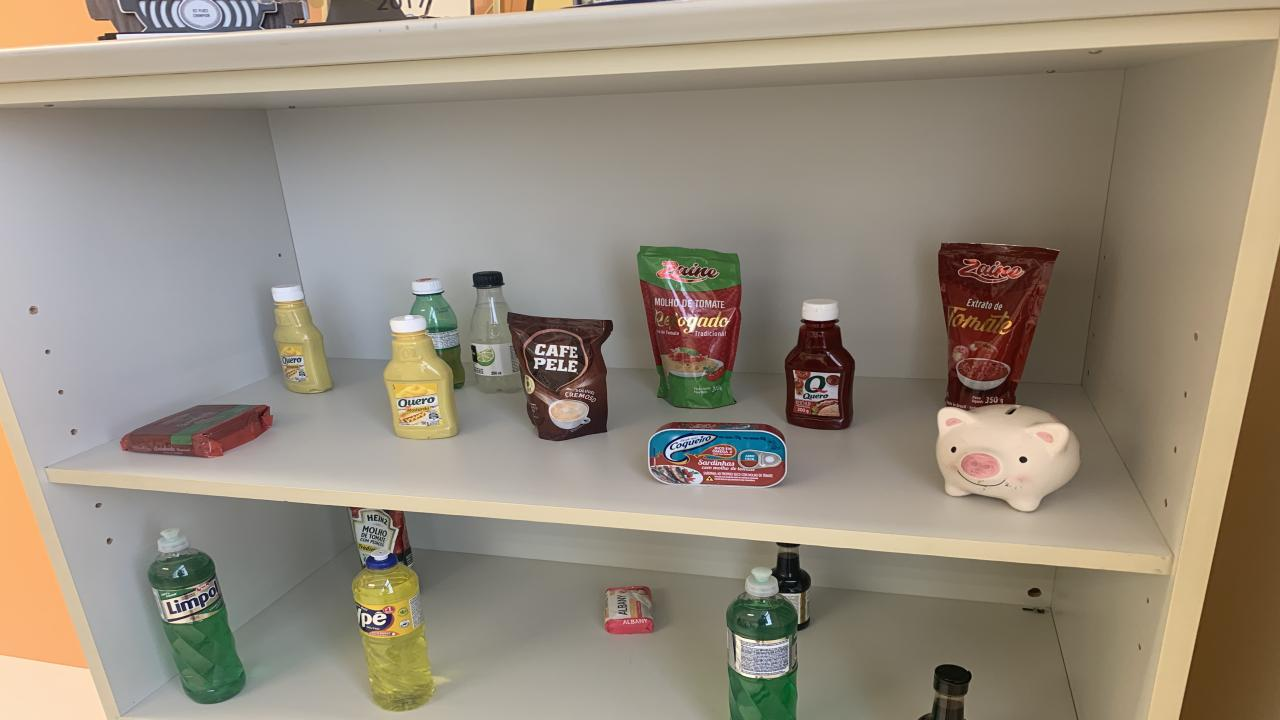Coffee-Pantry_Items: (508, 313, 612, 441)
Detergent-Cleanup_Items: (148, 529, 245, 703), (352, 549, 435, 711), (728, 566, 798, 720)
English_Sauce-Pantry_Items: (772, 544, 810, 630), (920, 664, 972, 720)
Guarana-Drinks: (410, 278, 465, 388)
Guava-Snacks: (120, 405, 272, 458)
Ketchup-Pantry_Items: (785, 300, 855, 429)
Mustard-Pantry_Items: (382, 315, 460, 439), (272, 285, 332, 394)
Pig_Safe-Miscellaneous: (935, 405, 1080, 512)
Soap-Cleanup_Items: (605, 587, 652, 634)
Soda-Drinks: (470, 272, 520, 394)
Tomato_Sauce-Pantry_Items: (938, 244, 1058, 409), (638, 246, 742, 409), (350, 508, 412, 566)
Tuna_Can-Pantry_Items: (648, 422, 788, 488)
